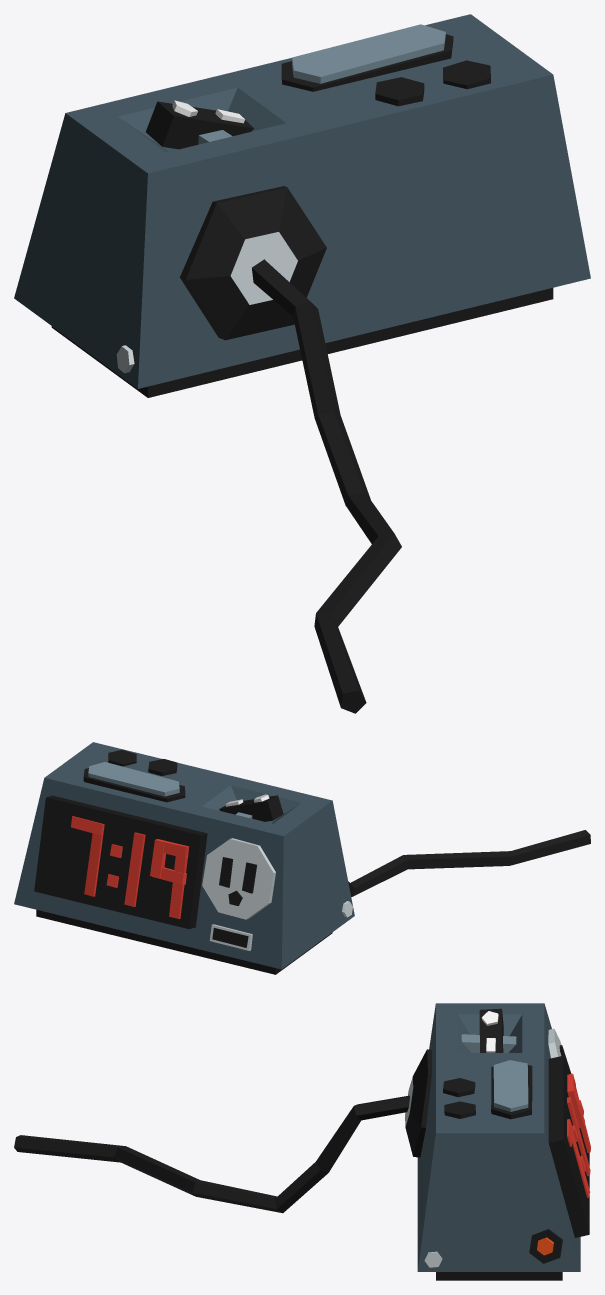
File: AlarmClock.gltf
3 renders of one model, top to bottom at view 1: azimuth 30°, elevation 25°; view 2: azimuth 150°, elevation 25°; view 3: azimuth 270°, elevation 25°, orthographic. The views are drawn at different scales.
Visible parts, largest first — view 1: group335136011, group590812250, group1572523851, group712291025, group1342934644, group336328460, group889766223, group1666950865, group795273595; view 2: group335136011, group1223167977, group195510460, group1572523851, group712291025, group1342934644, group371484656, group336328460, group517170809, group889766223, group803034596, group762837274 (+6 smaller); view 3: group335136011, group1572523851, group1223167977, group590812250, group1342934644, group712291025, group336328460, group1377990193, group889766223, group1666950865, group3801153, group795273595 (+3 smaller).
Boxes of the visible parts, <box> form: group335136011: <box>14,14,590,388</box>; group590812250: <box>180,186,326,340</box>; group1572523851: <box>252,259,401,713</box>; group712291025: <box>51,288,553,397</box>; group1342934644: <box>292,24,445,83</box>; group336328460: <box>146,101,253,149</box>; group889766223: <box>281,34,453,91</box>; group1666950865: <box>375,77,424,106</box>; group795273595: <box>443,60,490,89</box>; group335136011: <box>14,742,354,969</box>; group1223167977: <box>34,795,207,929</box>; group195510460: <box>202,838,275,919</box>; group1572523851: <box>348,830,590,896</box>; group712291025: <box>36,909,332,974</box>; group1342934644: <box>88,762,179,796</box>; group371484656: <box>71,816,104,896</box>; group336328460: <box>219,795,283,821</box>; group517170809: <box>124,832,145,906</box>; group889766223: <box>83,768,185,802</box>; group803034596: <box>169,844,189,918</box>; group762837274: <box>212,928,248,947</box>; group335136011: <box>417,1003,580,1271</box>; group1572523851: <box>14,1095,409,1213</box>; group1223167977: <box>548,1055,589,1237</box>; group590812250: <box>405,1049,431,1157</box>; group1342934644: <box>493,1060,528,1111</box>; group712291025: <box>436,1272,562,1280</box>; group336328460: <box>479,1008,503,1052</box>; group1377990193: <box>529,1229,562,1263</box>; group889766223: <box>491,1065,532,1119</box>; group1666950865: <box>443,1078,475,1097</box>; group3801153: <box>461,1034,516,1052</box>; group795273595: <box>444,1101,475,1118</box>.
Bounding box in the file's own units: 0.2342 × 0.1212 × 0.3188.
